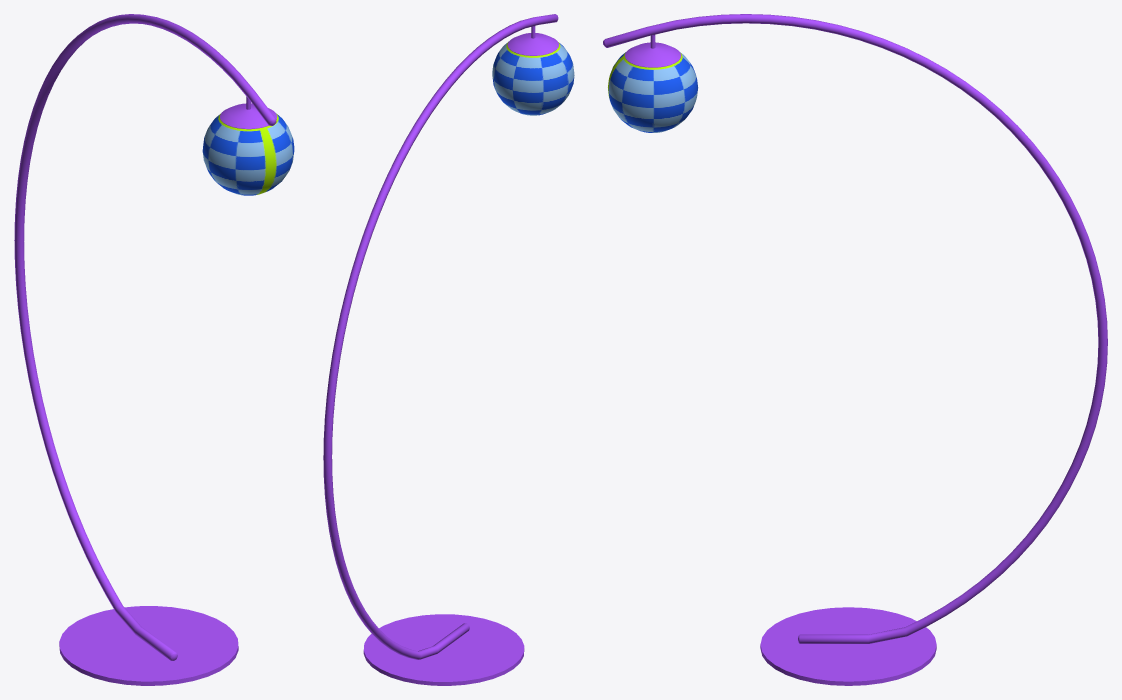
The model's file is LightFloor07_4.FBX.
The picture shows the model from 3 angles, left to right: view 1: azimuth 30°, elevation 25°; view 2: azimuth 150°, elevation 25°; view 3: azimuth 270°, elevation 25°; orthographic projection. The views are drawn at different scales.
Parts seen in each view (by area): view 1: LightFloor07_4; view 2: LightFloor07_4; view 3: LightFloor07_4.
Part boxes in pixels (x1,y1,x2,y2): LightFloor07_4: (14,14,294,685); LightFloor07_4: (323,14,574,685); LightFloor07_4: (603,14,1107,685).
Bounding box in the file's own units: 44.77 × 178 × 128.
